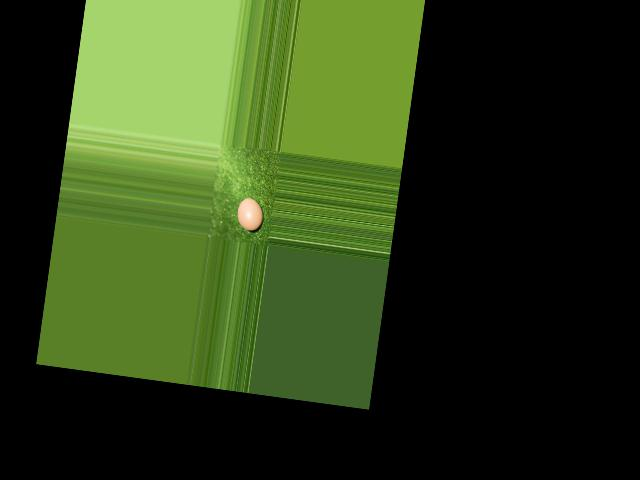egg: (235, 196, 266, 232)
